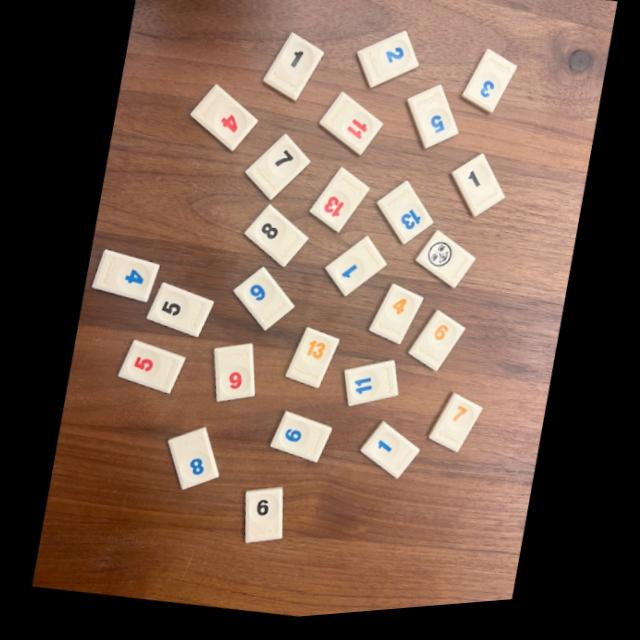black_1: (265, 38, 323, 105), (451, 162, 503, 225)
black_5: (147, 285, 213, 340)
black_6: (243, 493, 281, 547)
black_7: (245, 139, 310, 205)
black_8: (246, 210, 307, 271)
blue_1: (324, 243, 385, 302), (358, 428, 419, 485)
blue_11: (343, 367, 396, 412)
blue_13: (377, 188, 432, 251)
blue_2: (358, 38, 417, 94)
blue_3: (461, 58, 516, 122)
blue_4: (90, 252, 159, 304)
blue_5: (406, 92, 457, 155)
blue_6: (269, 416, 331, 468)
blue_8: (166, 430, 217, 492)
blue_9: (233, 273, 293, 335)
joker: (416, 238, 474, 296)
orange_13: (284, 333, 338, 394)
orange_4: (368, 290, 422, 351)
orange_6: (407, 318, 463, 379)
orange_7: (428, 401, 481, 460)
red_11: (319, 99, 382, 161)
red_13: (309, 174, 369, 238)
red_4: (190, 89, 257, 155)
red_5: (118, 342, 184, 396)
red_6: (212, 349, 253, 405)
